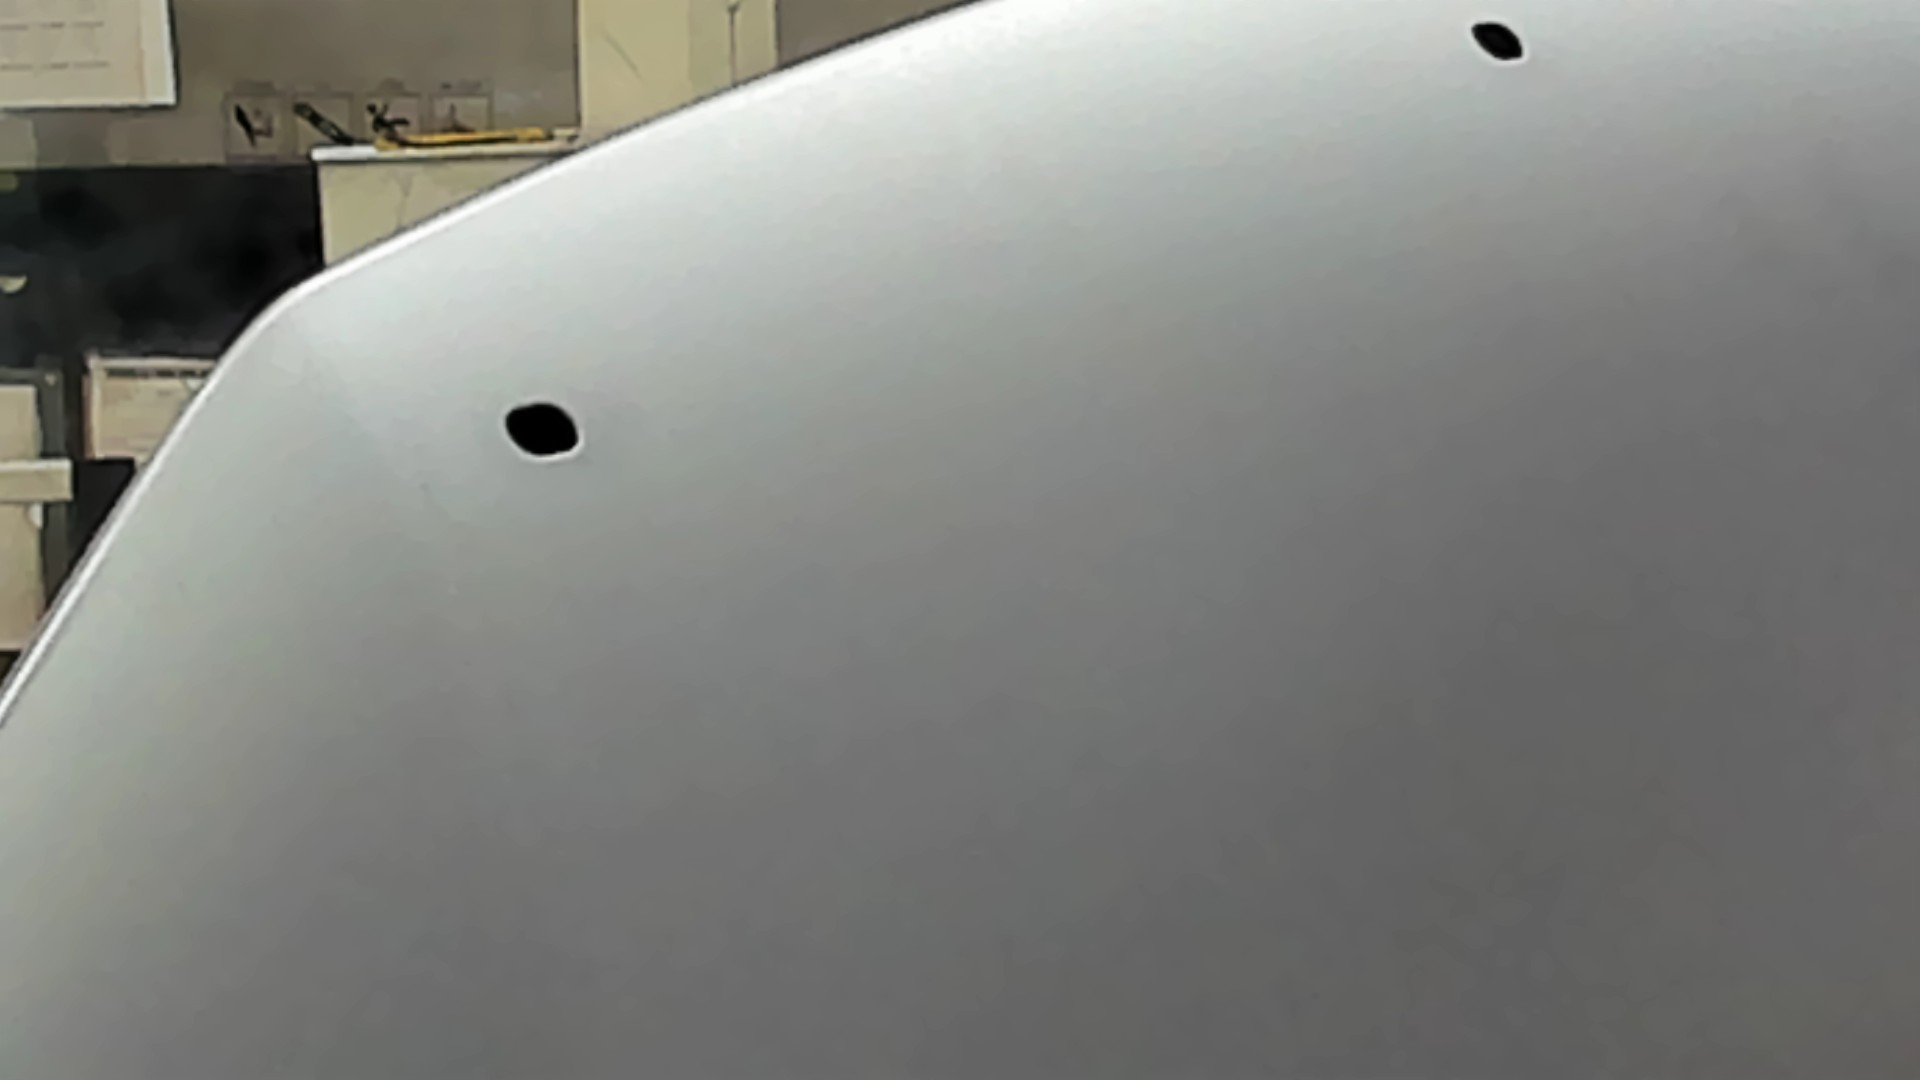Agujero: (501, 397, 588, 462), (1466, 15, 1528, 65)
